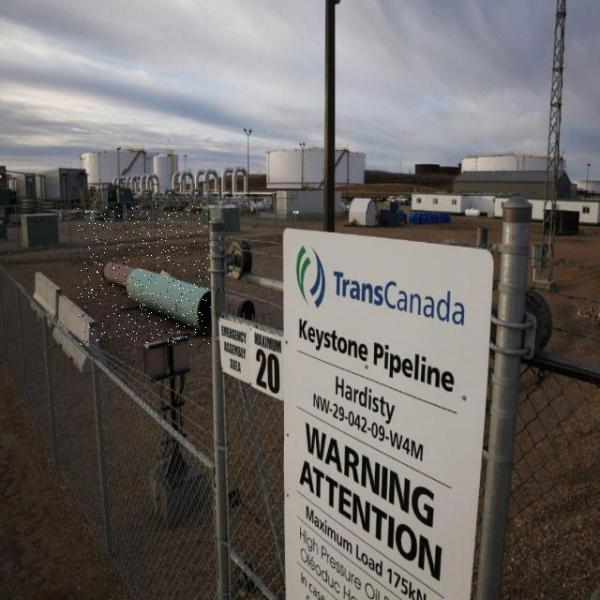no leak: (139, 268, 187, 308)
